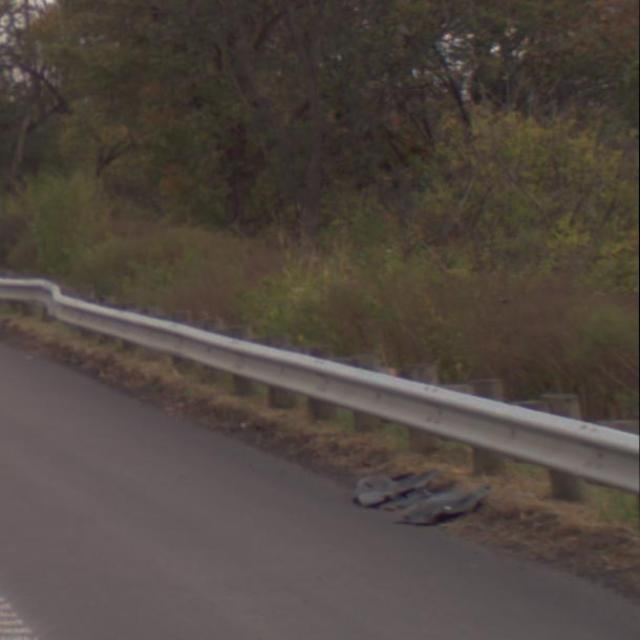Guard rail: (0, 263, 640, 522)
